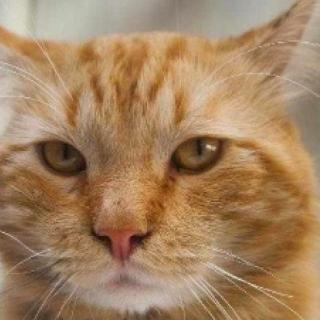cat: (0, 4, 318, 319)
nose: (82, 175, 168, 264)
